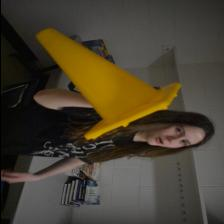cone: (34, 28, 180, 140)
